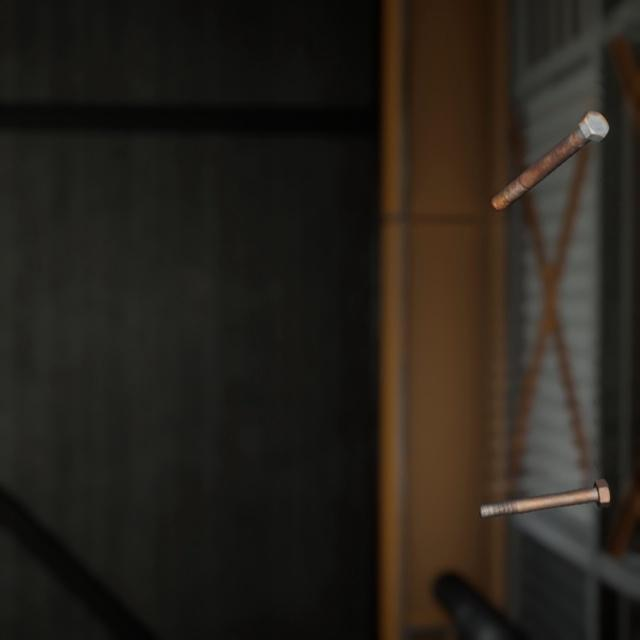bolt: (486, 91, 613, 202), (474, 452, 614, 501)
